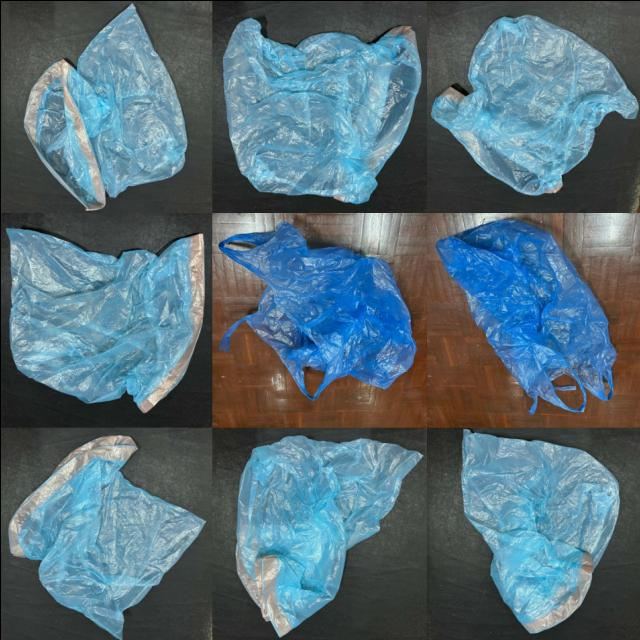plastik: (8, 436, 204, 638), (431, 14, 637, 195), (236, 435, 421, 635), (222, 18, 421, 202), (5, 228, 203, 411), (218, 221, 416, 400), (436, 220, 616, 412), (23, 4, 187, 209), (461, 429, 618, 631)
